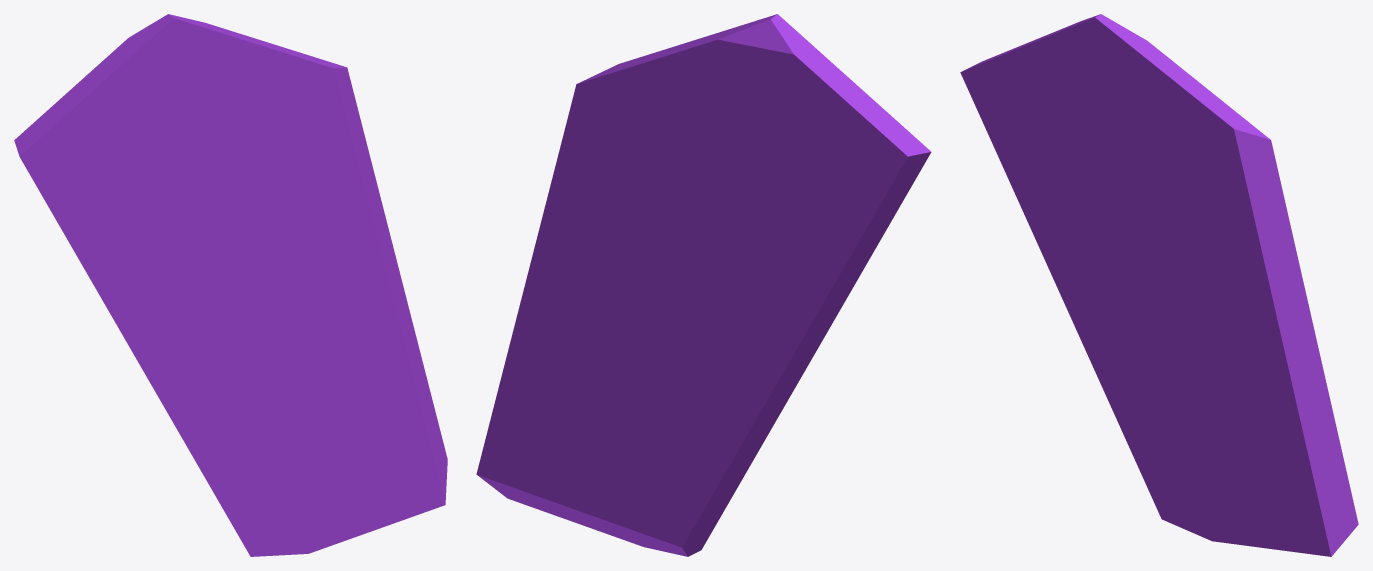
Rendered from Glass_83_3_10_chunks.fbx.
3 renders of one model, left to right at view 1: azimuth 30°, elevation 25°; view 2: azimuth 150°, elevation 25°; view 3: azimuth 330°, elevation 25°, orthographic. The views are drawn at different scales.
Visible parts, largest first — view 1: Glass_83_3_10_0, Glass_83_3_10_1, Glass_83_3_10_2; view 2: Glass_83_3_10_0, Glass_83_3_10_1, Glass_83_3_10_2, Glass_83_3_10_3; view 3: Glass_83_3_10_1, Glass_83_3_10_0, Glass_83_3_10_2.
Boxes of the visible parts, left/top/right/bottom form: Glass_83_3_10_0: left=14, top=14, right=313, bottom=306; Glass_83_3_10_1: left=106, top=260, right=446, bottom=556; Glass_83_3_10_2: left=236, top=49, right=447, bottom=480; Glass_83_3_10_0: left=634, top=14, right=931, bottom=301; Glass_83_3_10_1: left=491, top=282, right=844, bottom=556; Glass_83_3_10_2: left=476, top=58, right=700, bottom=485; Glass_83_3_10_3: left=698, top=237, right=844, bottom=334; Glass_83_3_10_1: left=1036, top=240, right=1345, bottom=556; Glass_83_3_10_0: left=960, top=14, right=1220, bottom=254; Glass_83_3_10_2: left=1149, top=100, right=1358, bottom=539.
Bounding box in the file's own units: 479 × 587 × 27.2.
